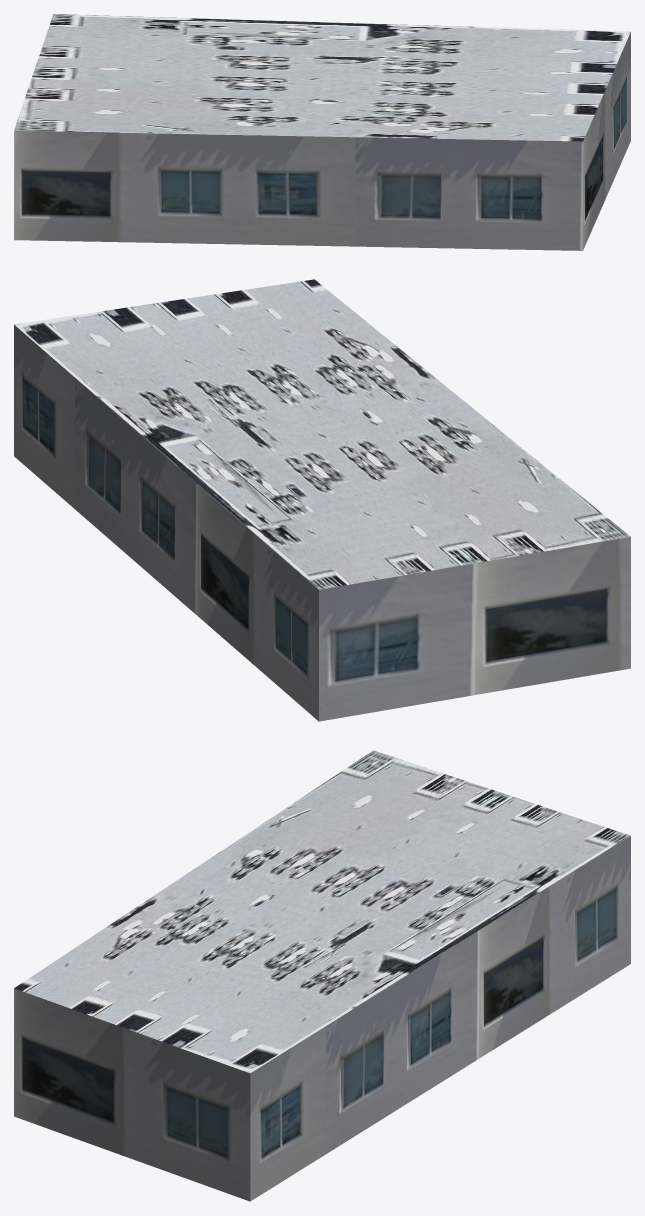
The model's file is ResTex__825.fbx.
3 renders of one model, top to bottom at view 1: azimuth 30°, elevation 25°; view 2: azimuth 150°, elevation 25°; view 3: azimuth 270°, elevation 25°, orthographic. The views are drawn at different scales.
Visible parts, largest first — view 1: CityEngineMaterial_10_m, CityEngineMaterial_2_m; view 2: CityEngineMaterial_2_m, CityEngineMaterial_10_m; view 3: CityEngineMaterial_2_m, CityEngineMaterial_10_m.
Part boxes in pixels (<box>): CityEngineMaterial_10_m: <box>14,32,630,250</box>; CityEngineMaterial_2_m: <box>14,14,630,141</box>; CityEngineMaterial_2_m: <box>14,279,630,589</box>; CityEngineMaterial_10_m: <box>14,325,630,721</box>; CityEngineMaterial_2_m: <box>14,750,630,1073</box>; CityEngineMaterial_10_m: <box>14,836,630,1201</box>.
Size of the model in its own units: 16.21 by 3 by 13.08.
2 materials, 2 textured.
